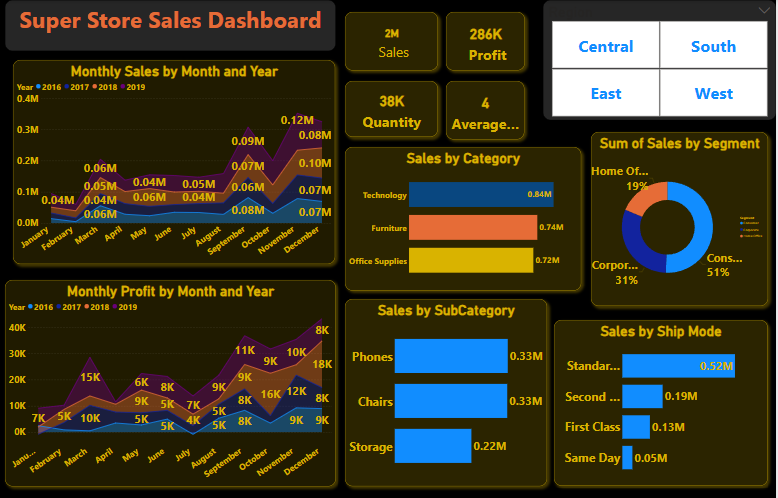

This screenshot's page, from the dashboard's own definition file:
{"tool":"powerbi","page":{"name":"Page 1","canvas":[3060,1992],"ordinal":0},"visuals":[{"type":"clusteredBarChart","title":" Sales by Category","fields":{"Category":["Orders.Category"],"Y":["Sum(Orders.Sales)"]},"box":[1367.4,575.3,925.5,562.8],"z":0},{"type":"clusteredBarChart","title":" Sales by SubCategory","fields":{"Y":["Sum(Orders.Sales)"],"Category":["Orders.Sub-Category"]},"box":[1367.4,1171.5,792.1,733.7],"z":1000},{"type":"clusteredBarChart","title":" Sales by Ship Mode","fields":{"Y":["Sum(Orders.Sales)"],"Category":["Orders.Ship Mode"]},"box":[2188.7,1254.9,838,650.4],"z":2000},{"type":"stackedAreaChart","title":"Monthly Profit by Month and Year","fields":{"Category":["Orders.Order Date.Variation.Date Hierarchy.Month","Orders.Order Date.Variation.Date Hierarchy.Day"],"Series":["Orders.Order Date.Variation.Date Hierarchy.Year"],"Y":["Sum(Orders.Profit)"]},"box":[33.4,1096.4,1296.5,808.8],"z":3000},{"type":"stackedAreaChart","title":"Monthly Sales by Month and Year","fields":{"Y":["Sum(Orders.Sales)"],"Category":["Orders.Order Date.Variation.Date Hierarchy.Month","Orders.Order Date.Variation.Date Hierarchy.Day"],"Series":["Orders.Order Date.Variation.Date Hierarchy.Year"]},"box":[66.7,233.5,1263.2,800.4],"z":4000},{"type":"donutChart","fields":{"Y":["Sum(Orders.Sales)"],"Category":["Orders.Segment"]},"box":[2333.1,517.6,694.1,682.3],"z":6000},{"type":"slicer","fields":{"Values":["Orders.Region"]},"box":[2144.9,0,913.7,470.6],"z":7000},{"type":"textbox","box":[33.4,0,1296.5,200.1],"z":8000},{"type":"card","fields":{"Values":["Sum(Orders.Sales)"]},"box":[1368.7,46.8,364.3,229],"z":9000},{"type":"card","fields":{"Values":["Sum(Orders.Quantity)"]},"box":[1368.7,317.4,364.3,218.6],"z":10000},{"type":"card","fields":{"Values":["Sum(Orders.Profit)"]},"box":[1763.5,45.9,308.5,229.3],"z":11000},{"type":"card","fields":{"Values":["Avg(Orders.Average Delivery)"]},"box":[1764.2,317.4,307,229],"z":12000}]}

Visuals, with their boxes in screenshot pixels (x1, y1, x2, y2), scaled from the page's 3060x1992 canvas onto the 778x498 screenshot:
" Sales by Category" clusteredBarChart: <region>348, 144, 583, 285</region>
" Sales by SubCategory" clusteredBarChart: <region>348, 293, 549, 476</region>
" Sales by Ship Mode" clusteredBarChart: <region>556, 314, 770, 476</region>
"Monthly Profit by Month and Year" stackedAreaChart: <region>8, 274, 338, 476</region>
"Monthly Sales by Month and Year" stackedAreaChart: <region>17, 58, 338, 258</region>
donutChart - Sum(Orders.Sales) x Orders.Segment: <region>593, 129, 770, 300</region>
slicer - Orders.Region: <region>545, 0, 777, 118</region>
textbox: <region>8, 0, 338, 50</region>
card - Sum(Orders.Sales): <region>348, 12, 441, 69</region>
card - Sum(Orders.Quantity): <region>348, 79, 441, 134</region>
card - Sum(Orders.Profit): <region>448, 11, 527, 69</region>
card - Avg(Orders.Average Delivery): <region>449, 79, 527, 137</region>
